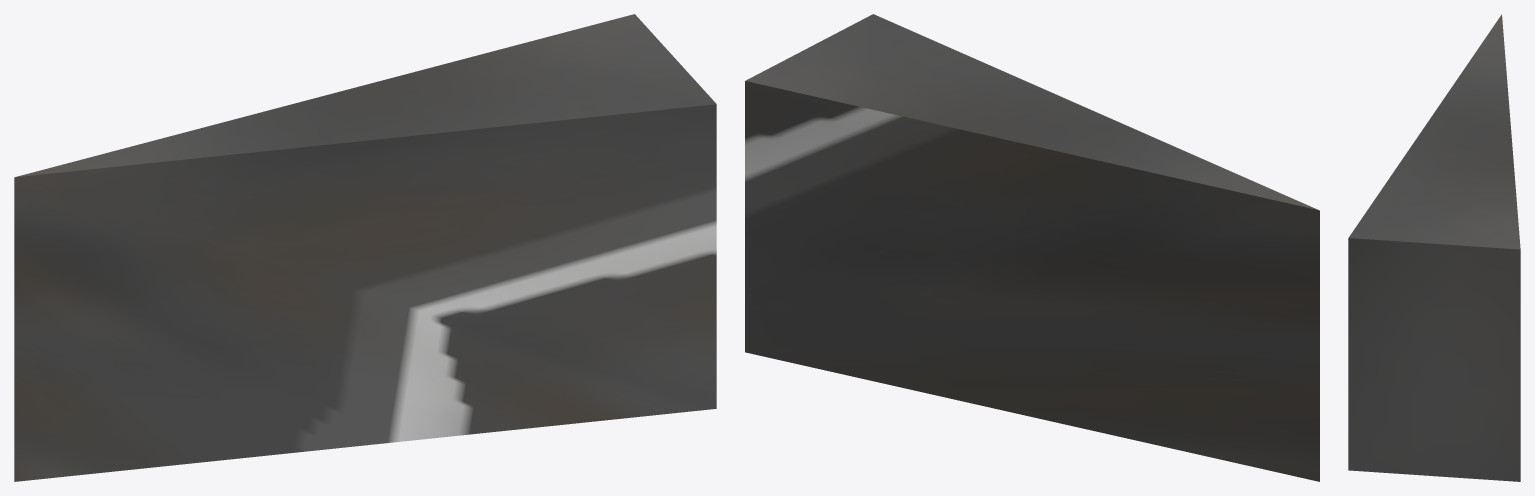
File: ishi_01_10_6.fbx
3 renders of one model, left to right at view 1: azimuth 30°, elevation 25°; view 2: azimuth 150°, elevation 25°; view 3: azimuth 270°, elevation 25°, orthographic. The views are drawn at different scales.
Parts seen in each view (by area): view 1: polySurface13; view 2: polySurface13; view 3: polySurface13.
Part boxes in pixels (left/top/right/bottom): polySurface13: left=14, top=14, right=716, bottom=481; polySurface13: left=745, top=14, right=1319, bottom=481; polySurface13: left=1348, top=14, right=1520, bottom=481.
Bounding box in the file's own units: 10.13 × 4.66 × 3.13.
1 material, 1 textured.
